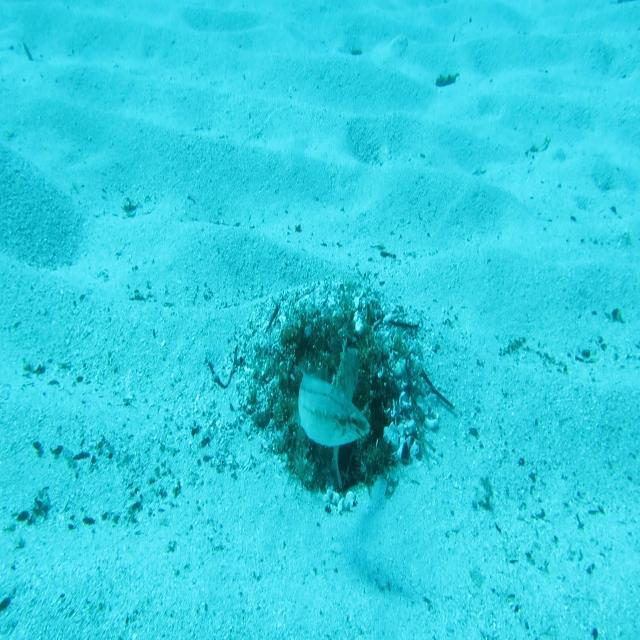MAN: (329, 334, 362, 492)
core_nest: (307, 331, 352, 367)
female: (298, 351, 372, 451)
nest: (230, 268, 444, 522)
vegetation: (434, 68, 460, 91)
